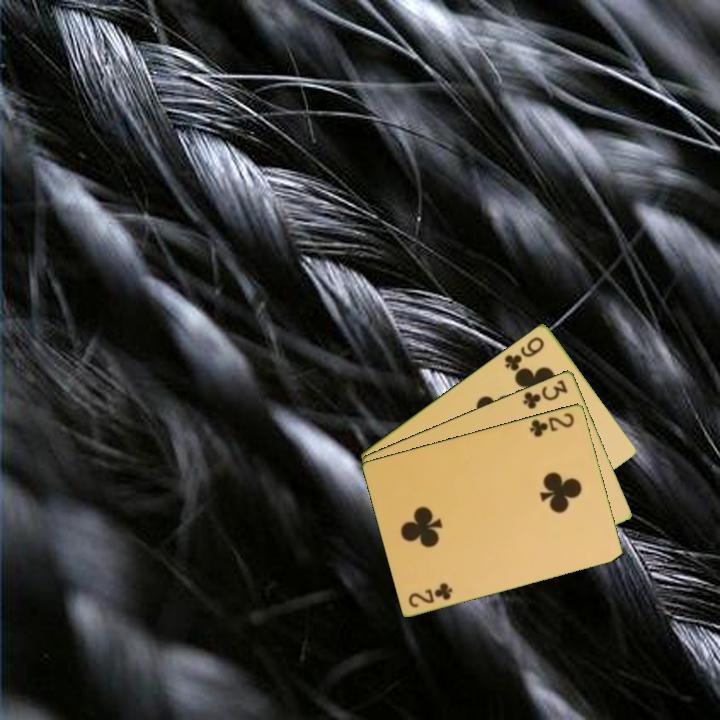2c: (526, 409, 577, 440), (405, 579, 456, 610)
3c: (519, 376, 571, 412)
9c: (501, 332, 547, 374)
